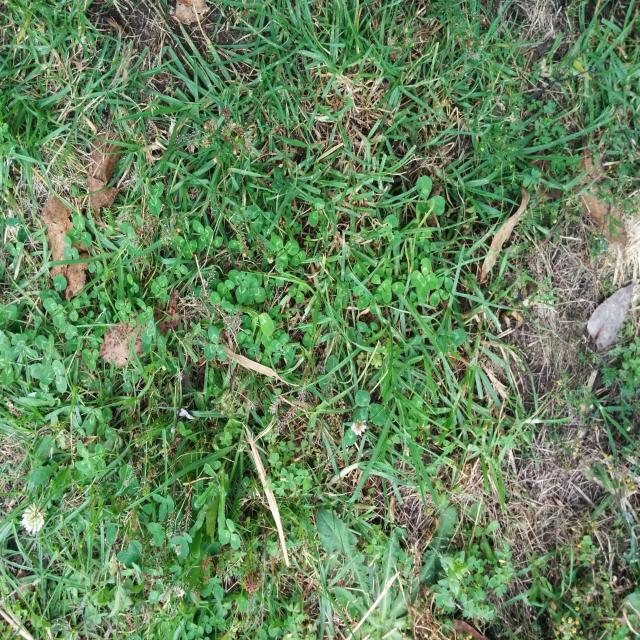Four Leaf Clover: (410, 257, 438, 298)
